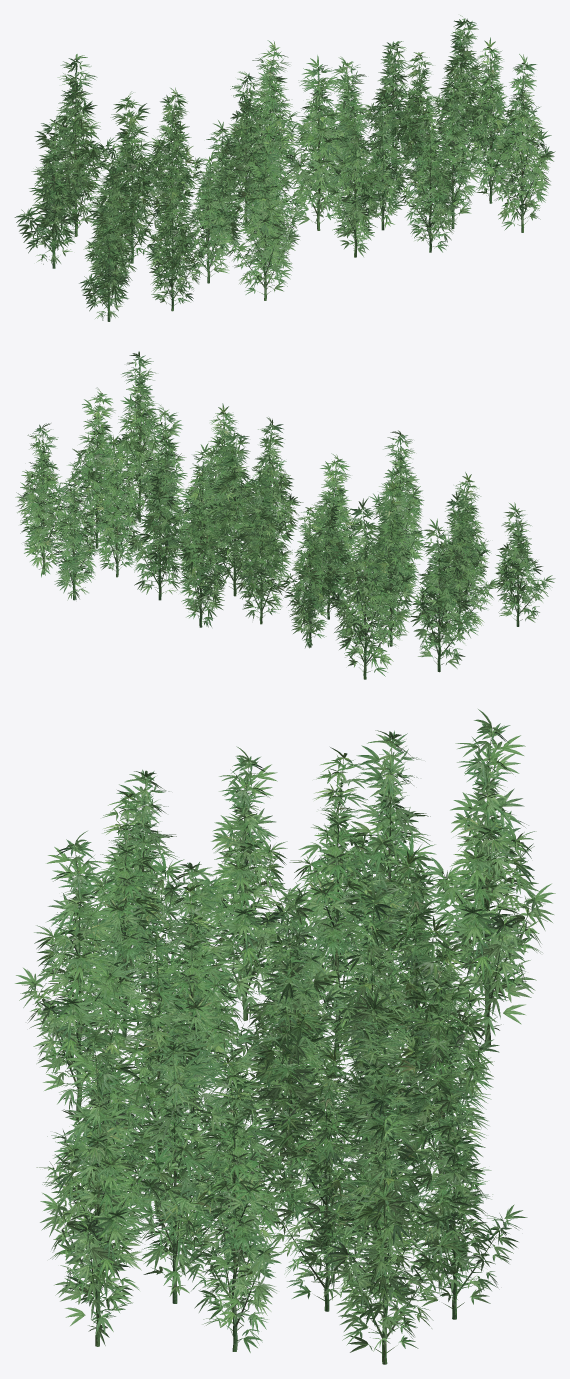
File: field-maria.glb
3 views of the same model, one above another, from view 1: azimuth 30°, elevation 25°; view 2: azimuth 150°, elevation 25°; view 3: azimuth 270°, elevation 25° (orthographic). The views are drawn at different scales.
Parts seen in each view (by area): view 1: Object_2; view 2: Object_2; view 3: Object_2.
Part boxes in pixels (x1,y1,x2,y2): Object_2: (14,15,555,321); Object_2: (15,351,555,679); Object_2: (15,709,555,1364).
Size of the model in its own units: 124 by 45.52 by 66.35.
1 material, 1 textured.
